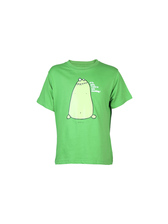clothoes: (35, 56, 133, 169)
